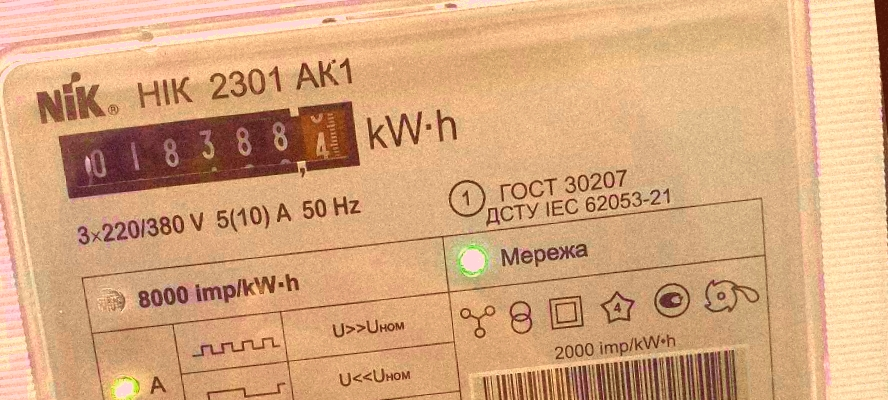0: (85, 143, 109, 181)
1: (123, 135, 144, 173)
3: (195, 125, 218, 162)
4: (309, 126, 332, 161)
8: (158, 132, 182, 170), (267, 116, 291, 154), (231, 123, 254, 159)
screen: (48, 89, 373, 210)
